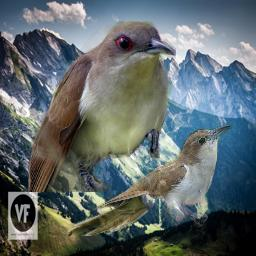Cuckoo: (28, 21, 176, 192), (65, 124, 232, 236)
